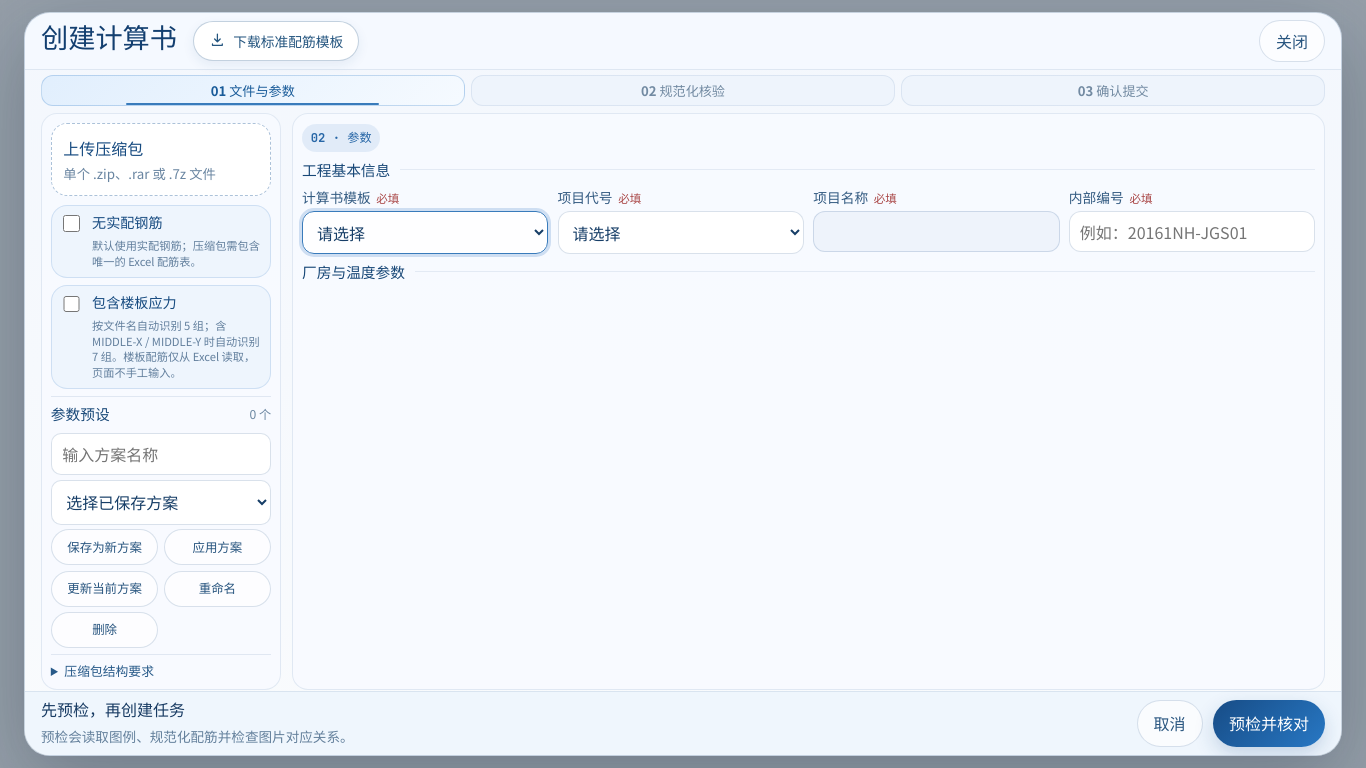
Test: CalculationBookWorkspace › announces browser storage failures instead of losing preset actions silently
In the field named "计算书方案名称": (161, 454) [51, 433, 271, 475], type "无法保存的方案"
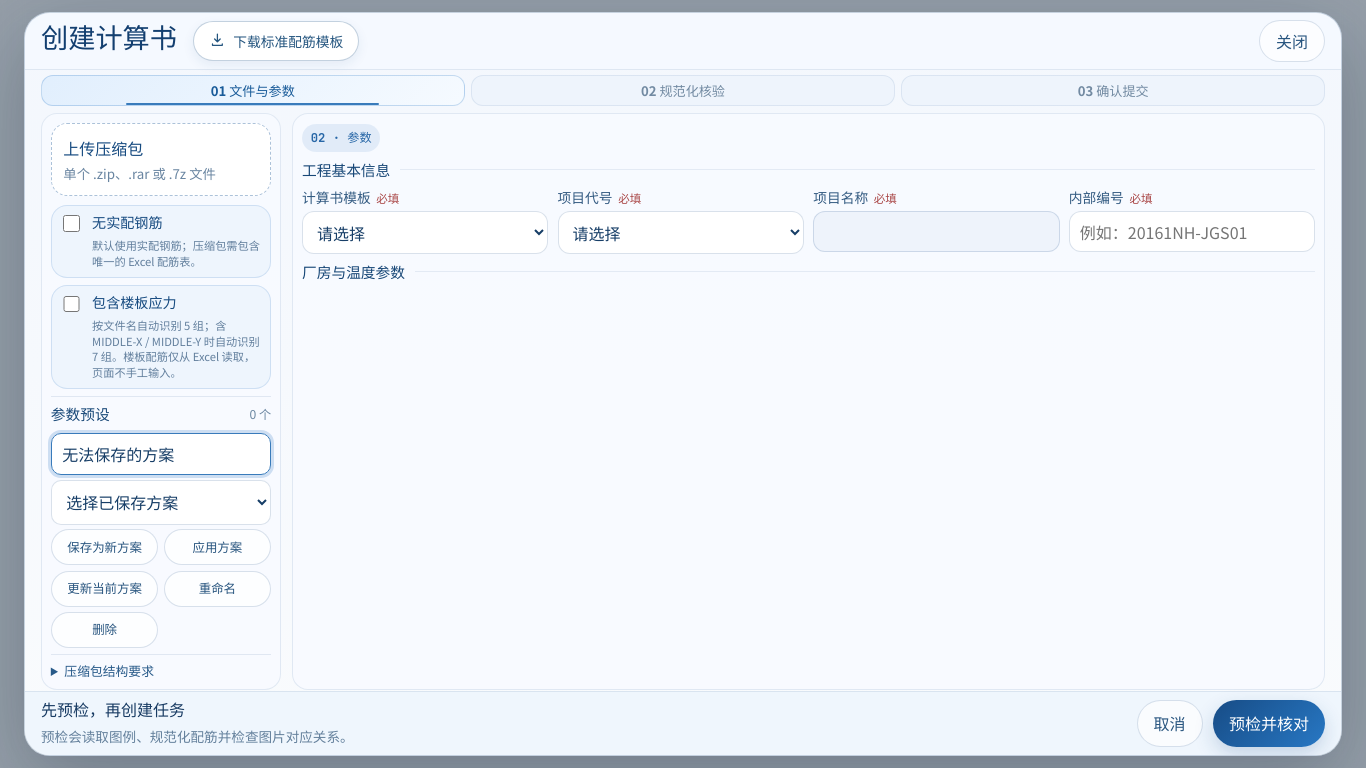
Click the button "保存为新方案": (105, 547) [51, 529, 158, 565]
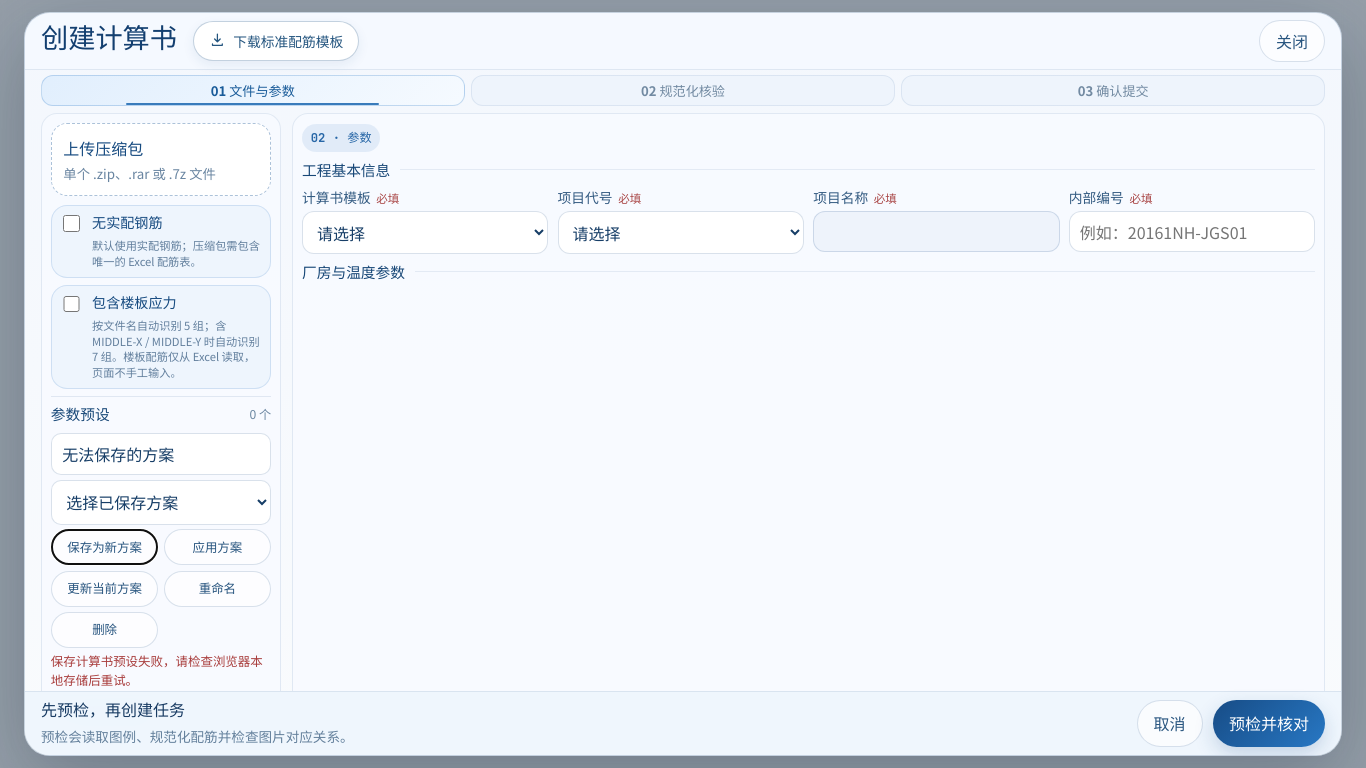
Expected: the message shows "保存计算书预设失败，请检查浏览器本地存储后重试", [51, 652, 263, 689]
